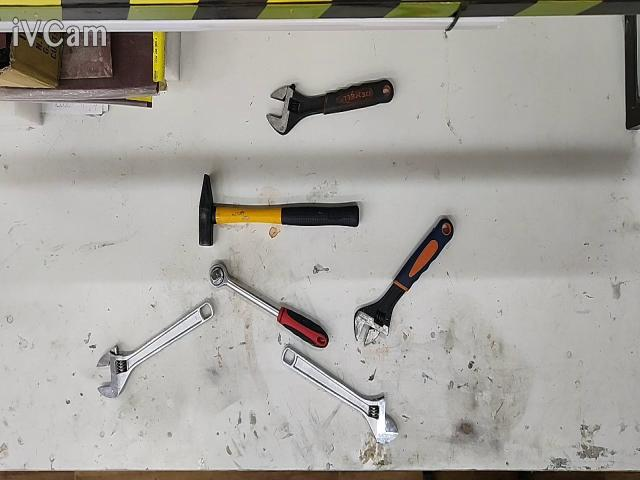Adjustable spanner: (354, 218, 454, 346), (281, 347, 399, 442), (98, 302, 214, 398), (266, 80, 394, 134)
Hammer: (199, 175, 359, 246)
Ratchet: (209, 262, 329, 348)
